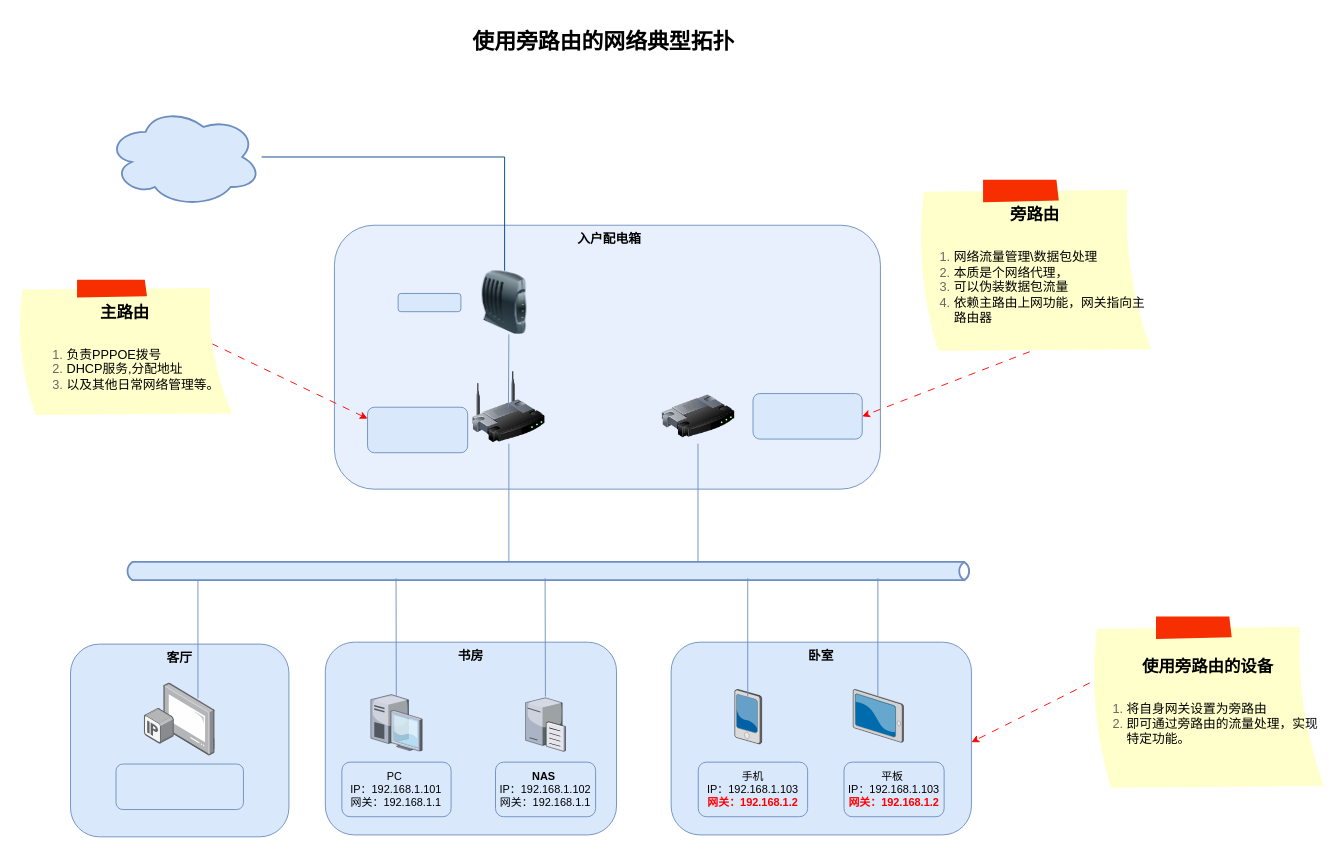
Image size: 1342x853. Some labels were removed from this diagram. Here are the shapes that lost their labels. From the top down, the centre of each, then its label:
At point 184,156: "互联网".
At point 429,302: "光猫".
At point 417,429: "主路由 192.168.1.1".
At point 807,416: "旁路由 IP: 192.168.1.2 网关：192.168.1.1".
At point 548,571: "局域网 1000Mbps/2.5Gbps".
At point 179,786: "智能电视 IP：192.168.1.100 网关：192.168.1.1".
